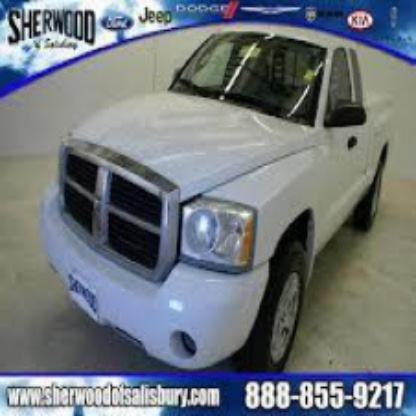Vehicle: (38, 25, 402, 375)
